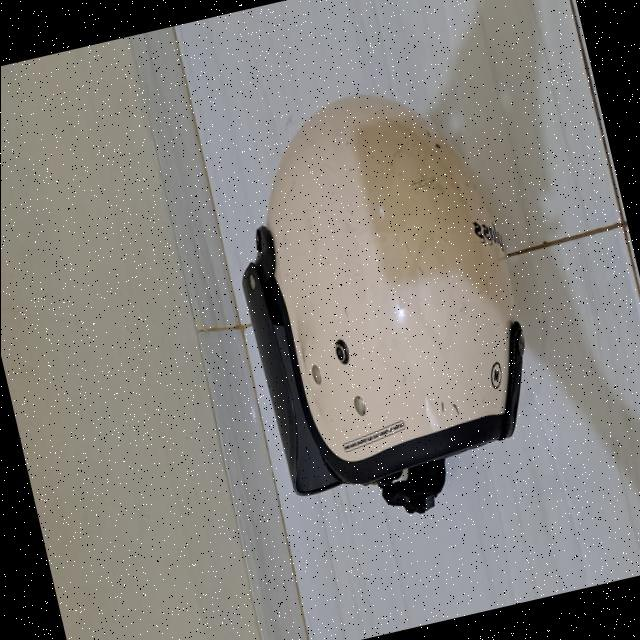Helm: (197, 67, 563, 540)
